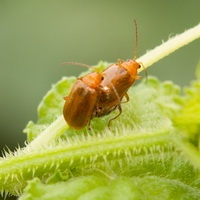insect: (63, 21, 140, 128)
